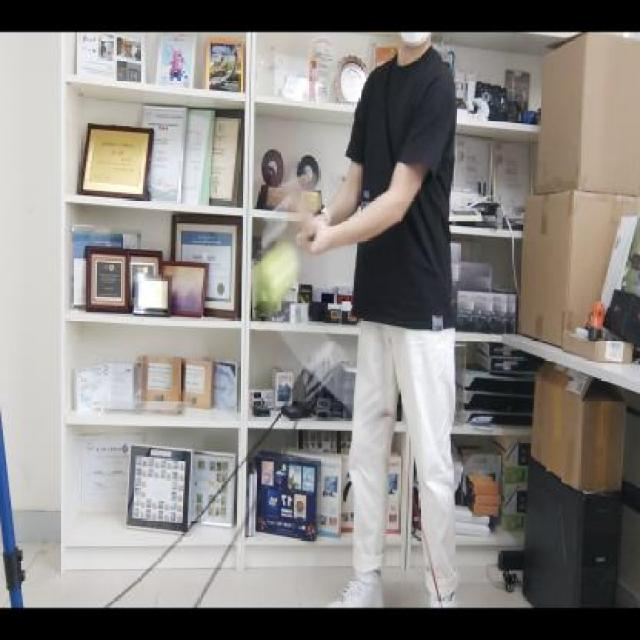baseball: (248, 238, 302, 312)
